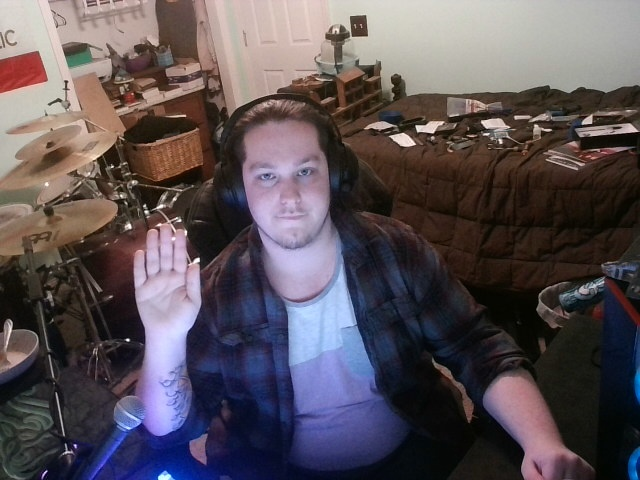hello: (103, 207, 238, 368)
